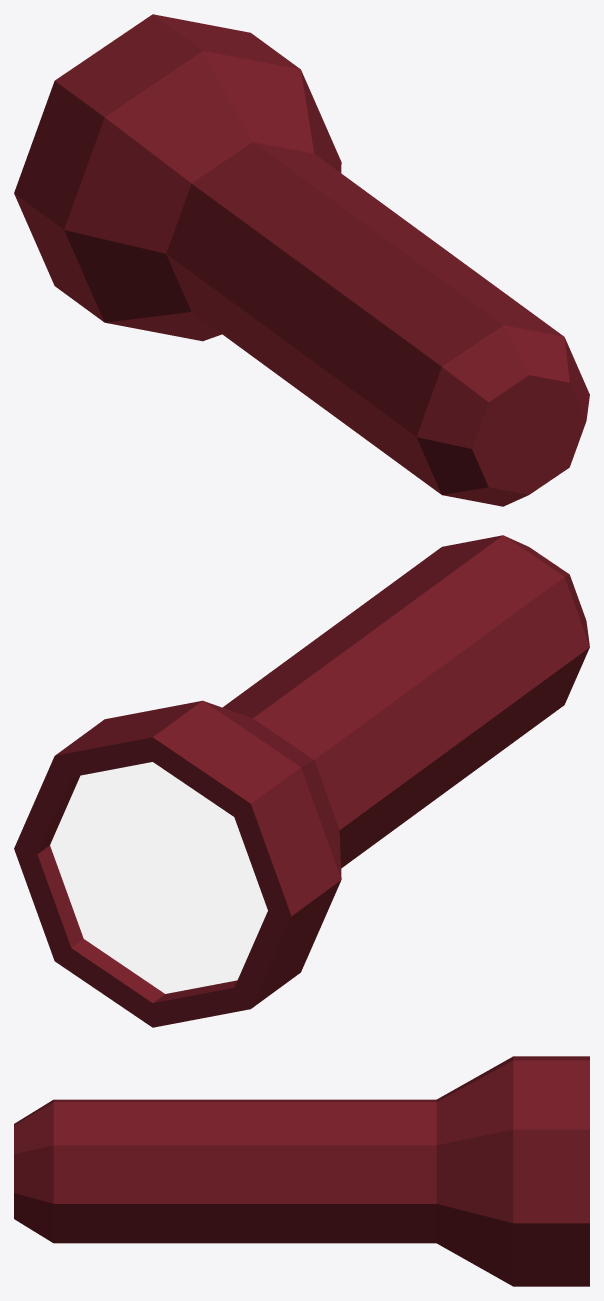
File: flashlight1.gltf
The picture shows the model from 3 angles, top to bottom: view 1: azimuth 30°, elevation 25°; view 2: azimuth 150°, elevation 25°; view 3: azimuth 270°, elevation 25°; orthographic projection. The views are drawn at different scales.
Visible parts, largest first — view 1: Cylinder; view 2: Cylinder; view 3: Cylinder.
Boxes of the visible parts, left/top/right/bottom form: Cylinder: left=14, top=14, right=589, bottom=506; Cylinder: left=14, top=535, right=589, bottom=1027; Cylinder: left=14, top=1056, right=589, bottom=1286.
Size of the model in its own units: 0.32 by 0.32 by 0.7519.
